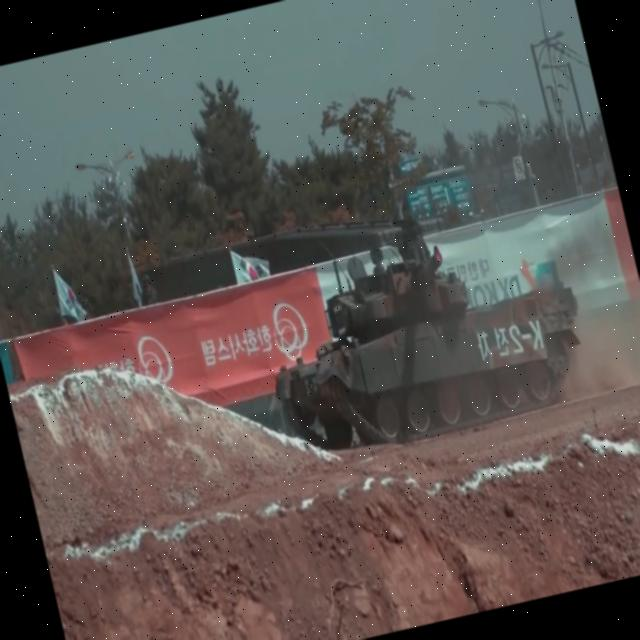korea tank: (242, 180, 600, 475)
